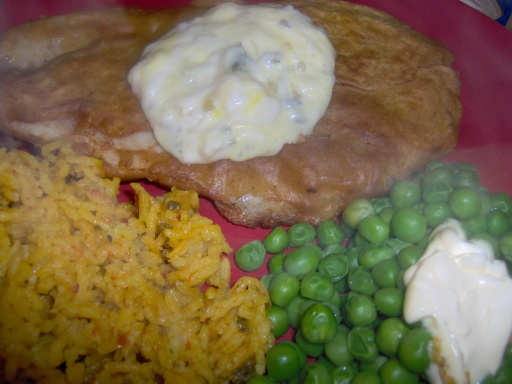background: (0, 0, 410, 230)
